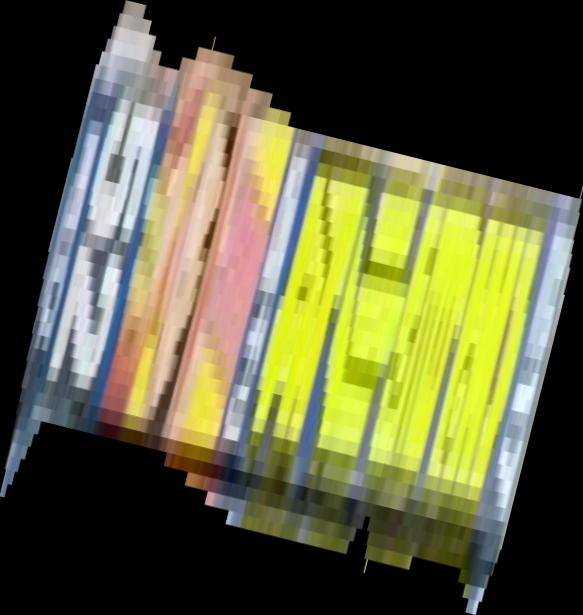flat: (1, 1, 583, 615)
